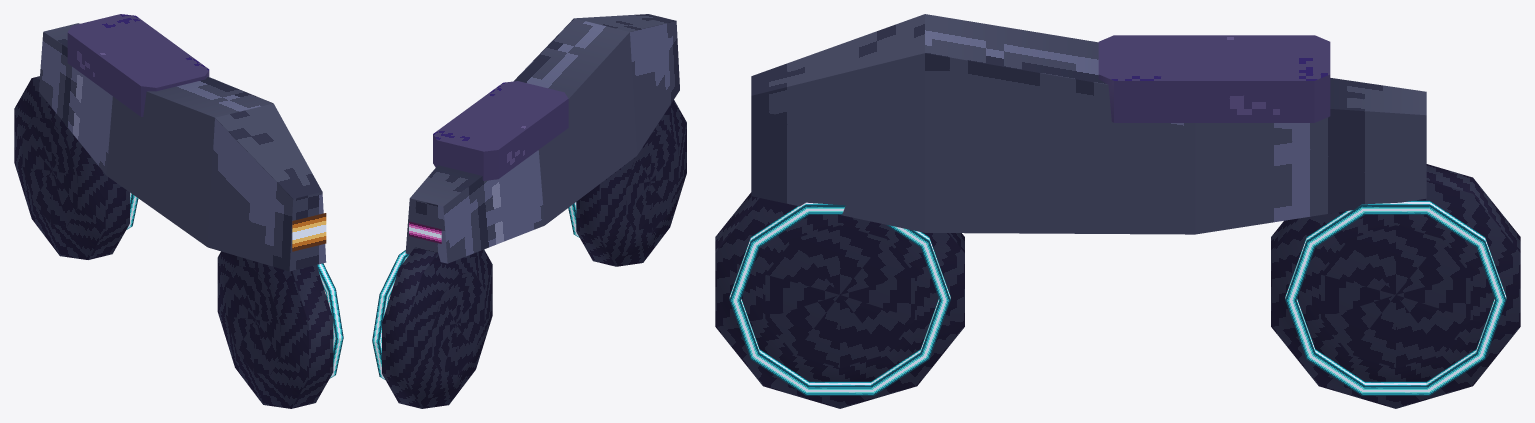
File: cytech.bike.glb
3 renders of one model, left to right at view 1: azimuth 30°, elevation 25°; view 2: azimuth 150°, elevation 25°; view 3: azimuth 270°, elevation 25°, orthographic. The views are drawn at different scales.
Parts seen in each view (by area): view 1: kit_bike, kit_rims, kit_card_lamps; view 2: kit_bike, kit_rims, kit_card_lamps; view 3: kit_bike, kit_rims.
Part boxes in pixels (x1=…): kit_bike: x1=14, y1=14, x2=333, y2=408; kit_rims: x1=126, y1=192, x2=343, y2=378; kit_card_lamps: x1=292, y1=213, x2=326, y2=251; kit_bike: x1=382, y1=14, x2=686, y2=408; kit_rims: x1=372, y1=202, x2=579, y2=379; kit_card_lamps: x1=409, y1=221, x2=441, y2=243; kit_bike: x1=715, y1=14, x2=1520, y2=408; kit_rims: x1=729, y1=200, x2=1506, y2=395.
Bounding box in the file's own units: 0.32 × 1.05 × 2.09.
Materials: 4 (4 with a texture image).
